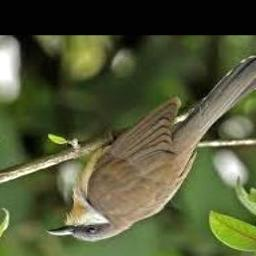Cuckoo: (46, 54, 256, 242)
